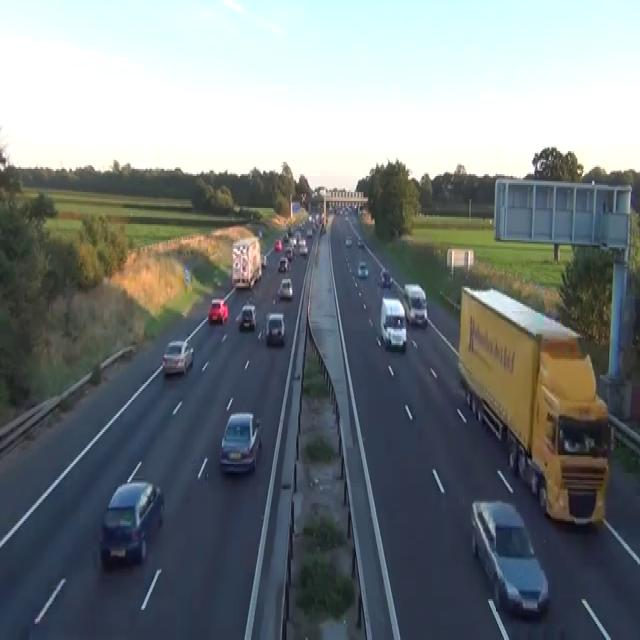Car: (470, 499, 549, 617), (99, 480, 164, 567), (219, 410, 261, 474), (380, 297, 406, 350), (162, 340, 194, 375), (402, 283, 427, 325), (264, 311, 285, 345), (208, 297, 228, 323), (240, 304, 256, 329), (277, 277, 293, 299), (378, 268, 392, 286), (357, 260, 368, 278), (235, 277, 250, 290), (278, 256, 289, 272), (183, 266, 191, 284), (284, 246, 294, 260), (299, 240, 307, 256), (274, 238, 282, 251), (294, 231, 301, 244), (390, 226, 399, 236), (261, 254, 267, 267), (345, 235, 352, 245), (320, 224, 326, 235), (357, 237, 363, 247), (291, 237, 297, 247), (306, 228, 312, 236), (283, 233, 288, 242), (308, 214, 313, 222), (258, 230, 262, 238), (344, 215, 348, 221)
Truck: (457, 284, 611, 528), (231, 236, 261, 290)
